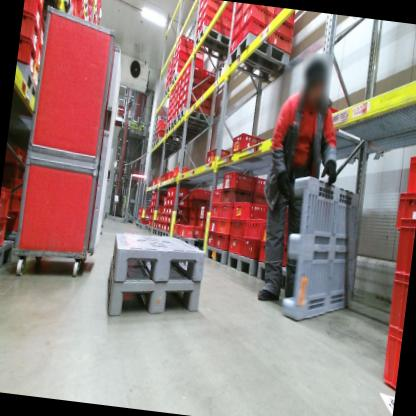pallet: (276, 158, 373, 327), (109, 220, 211, 293), (97, 267, 212, 323), (224, 31, 291, 85), (11, 60, 42, 112), (193, 23, 233, 62), (176, 102, 216, 134), (168, 114, 212, 140), (224, 249, 258, 279), (194, 245, 227, 275), (163, 122, 194, 149), (253, 263, 285, 288), (45, 0, 74, 19), (154, 132, 179, 152), (0, 241, 12, 280), (178, 235, 205, 252), (170, 71, 182, 85), (163, 82, 172, 94), (159, 227, 168, 238), (155, 227, 163, 237), (153, 114, 166, 120), (169, 233, 180, 240), (134, 220, 141, 229), (138, 223, 146, 230), (136, 215, 142, 224), (151, 225, 157, 234), (151, 130, 156, 139), (153, 123, 158, 132), (151, 142, 156, 149), (152, 135, 156, 143), (145, 222, 149, 230), (147, 226, 152, 232)
small_load_carrier: (384, 268, 410, 340), (379, 324, 401, 393), (392, 217, 415, 279), (235, 17, 275, 52), (229, 127, 268, 159), (18, 11, 42, 61), (238, 3, 274, 33), (393, 187, 416, 231), (255, 238, 289, 266), (220, 183, 255, 210), (16, 36, 39, 76), (228, 217, 263, 243), (221, 169, 256, 194), (233, 201, 271, 224), (242, 212, 267, 243), (21, 0, 45, 31), (5, 142, 32, 166), (402, 149, 416, 195), (270, 16, 296, 40), (241, 4, 274, 20), (10, 174, 32, 198), (270, 32, 294, 52), (198, 16, 221, 36), (205, 145, 228, 165), (188, 184, 210, 204), (0, 186, 13, 219), (240, 237, 259, 258), (215, 216, 234, 237), (200, 5, 221, 24), (174, 30, 193, 51), (179, 86, 200, 105), (30, 58, 43, 88), (273, 9, 297, 25), (226, 233, 244, 254), (5, 212, 23, 233), (229, 3, 244, 28), (254, 175, 273, 194), (202, 0, 224, 16), (170, 164, 195, 178), (183, 61, 204, 77), (39, 20, 49, 53), (230, 15, 242, 42), (218, 201, 235, 220), (199, 92, 218, 109), (185, 224, 204, 240), (228, 29, 240, 54), (34, 38, 43, 71), (166, 210, 185, 225), (181, 81, 201, 95), (0, 214, 8, 249), (189, 195, 210, 208), (199, 86, 218, 100), (205, 227, 217, 249), (24, 0, 46, 12), (8, 195, 21, 215), (254, 192, 271, 207), (174, 47, 191, 62), (208, 199, 220, 220), (201, 70, 221, 82), (214, 230, 229, 246), (207, 214, 218, 235), (210, 186, 222, 205), (183, 71, 202, 83), (220, 24, 235, 39), (219, 16, 233, 32), (198, 204, 212, 220), (175, 40, 192, 53), (169, 195, 187, 207), (168, 204, 186, 216), (222, 5, 235, 21), (187, 211, 198, 227), (170, 186, 186, 197), (166, 223, 182, 234), (187, 207, 200, 218), (178, 225, 189, 238), (201, 80, 220, 87), (199, 215, 209, 228), (193, 55, 204, 66), (76, 0, 84, 14), (194, 22, 201, 37), (196, 5, 204, 18), (174, 56, 187, 64), (167, 168, 174, 181), (74, 11, 81, 24), (175, 63, 186, 71), (166, 185, 173, 197), (172, 223, 180, 233), (155, 175, 161, 188), (151, 177, 157, 188), (165, 196, 171, 206), (157, 204, 163, 212), (165, 206, 170, 215), (163, 172, 167, 182), (162, 205, 166, 215), (157, 218, 161, 228), (163, 220, 167, 230), (150, 211, 155, 219), (199, 0, 203, 9), (163, 196, 167, 205), (160, 219, 164, 228), (151, 192, 155, 201), (164, 215, 168, 223), (156, 212, 160, 220), (152, 220, 156, 228), (149, 205, 153, 213), (149, 219, 154, 225), (161, 214, 165, 221), (153, 192, 157, 199), (160, 175, 163, 184), (159, 213, 162, 220), (156, 219, 159, 226), (153, 198, 156, 205), (152, 204, 155, 211), (148, 213, 151, 220), (150, 201, 154, 206)
